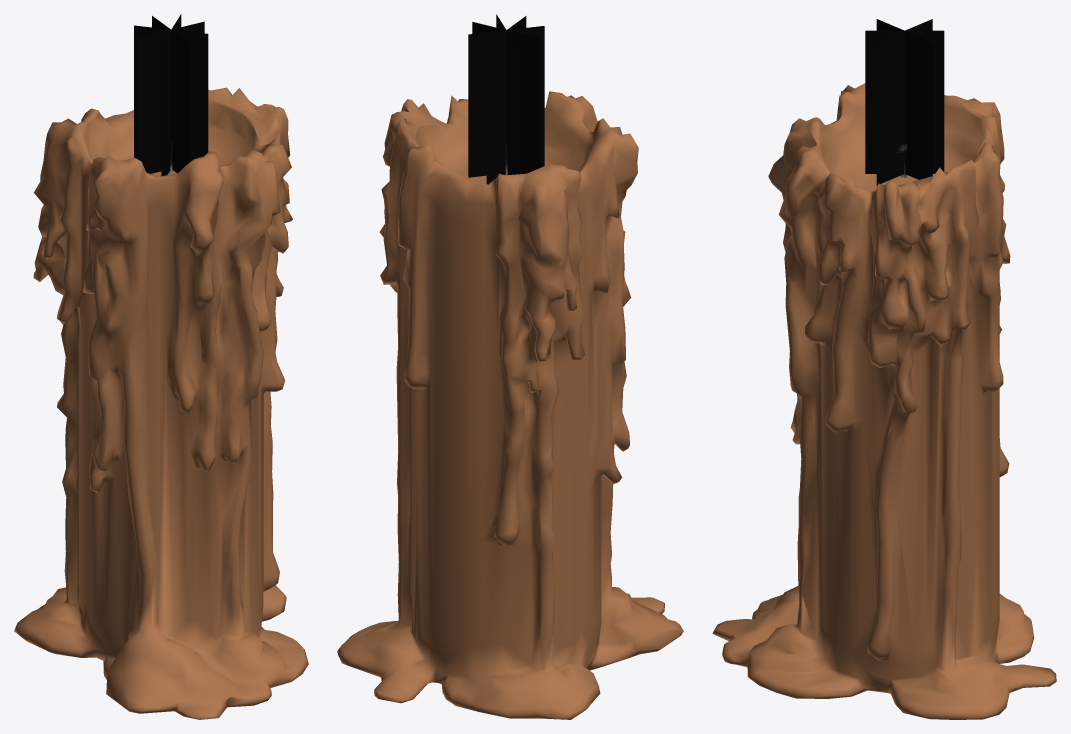
The model's file is Candle.obj.
3 renders of one model, left to right at view 1: azimuth 30°, elevation 25°; view 2: azimuth 150°, elevation 25°; view 3: azimuth 270°, elevation 25°, orthographic. The views are drawn at different scales.
Parts seen in each view (by area): view 1: Candle; view 2: Candle; view 3: Candle.
Boxes of the visible parts, left/top/right/bottom form: Candle: left=14, top=14, right=308, bottom=719; Candle: left=337, top=14, right=683, bottom=719; Candle: left=712, top=19, right=1056, bottom=719.
Size of the model in its own units: 0.0832 by 0.2 by 0.0996.
Materials: 3 (1 with a texture image).
